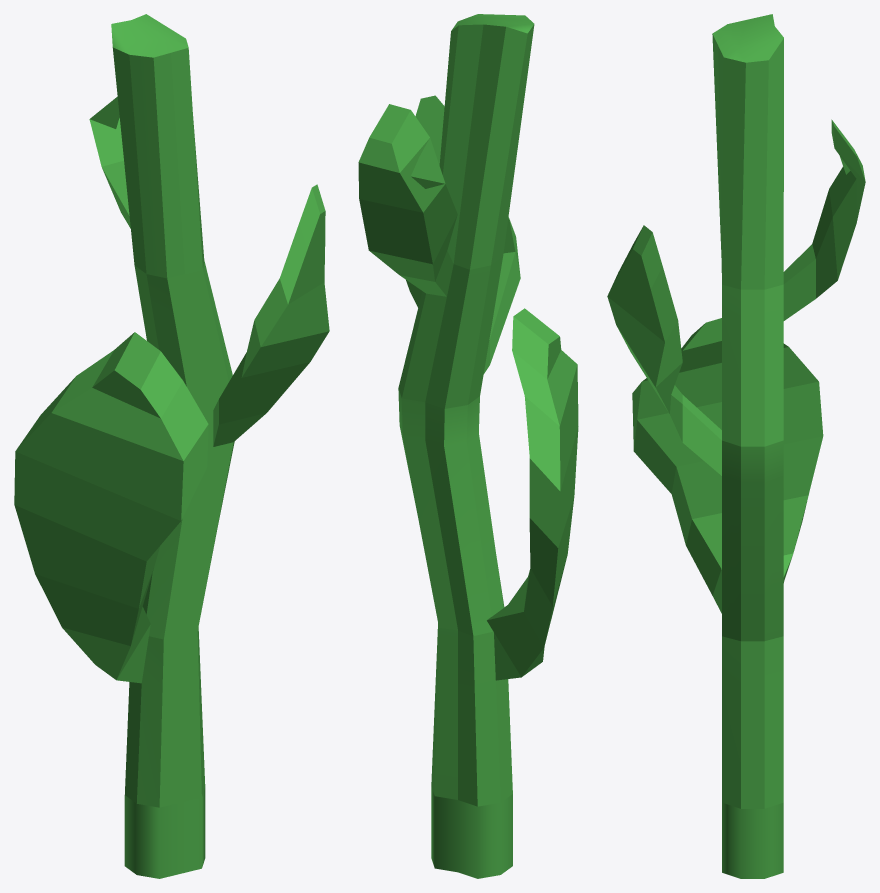
Rendered from SunflowerTaken.fbx.
3 renders of one model, left to right at view 1: azimuth 30°, elevation 25°; view 2: azimuth 150°, elevation 25°; view 3: azimuth 270°, elevation 25°, orthographic. The views are drawn at different scales.
Parts seen in each view (by area): view 1: SunflowerTaken; view 2: SunflowerTaken; view 3: SunflowerTaken.
Part boxes in pixels (x1,y1,x2,y2): SunflowerTaken: [14, 14, 329, 878]; SunflowerTaken: [358, 14, 578, 878]; SunflowerTaken: [607, 14, 865, 878].
Size of the model in its own units: 10.67 by 36.74 by 10.39.
